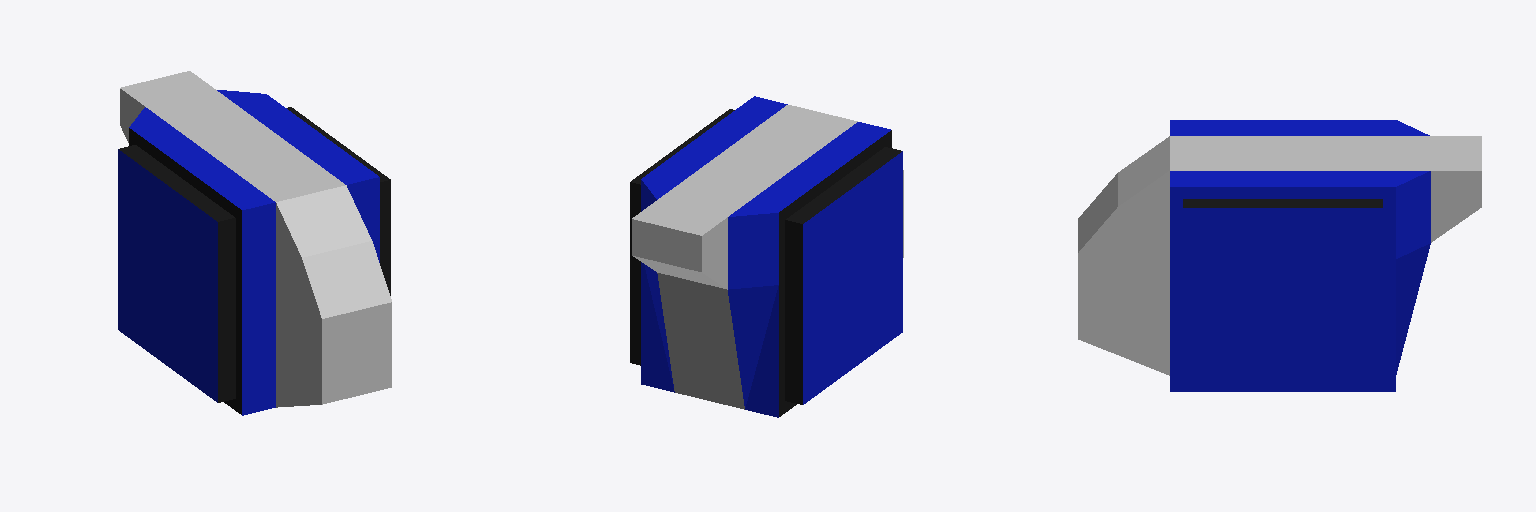
Rendered from TestObj.obj.
3 renders of one model, left to right at view 1: azimuth 30°, elevation 25°; view 2: azimuth 150°, elevation 25°; view 3: azimuth 270°, elevation 25°, orthographic.
Parts seen in each view (by area): view 1: Cube_Cube.001; view 2: Cube_Cube.001; view 3: Cube_Cube.001.
Part boxes in pixels (left/top/right/bottom): Cube_Cube.001: left=118, top=71, right=391, bottom=415; Cube_Cube.001: left=630, top=96, right=903, bottom=417; Cube_Cube.001: left=1078, top=120, right=1481, bottom=391.
Size of the model in its own units: 2 by 2.27 by 4.05.